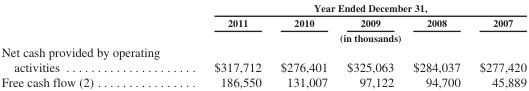table: (0, 1, 525, 88)
table column: (0, 1, 186, 88), (186, 1, 270, 88), (402, 1, 469, 88), (270, 1, 336, 88), (336, 1, 402, 88), (469, 1, 525, 88)
table column header: (0, 1, 525, 43)
table row: (0, 43, 525, 73), (0, 14, 525, 29), (0, 73, 525, 88), (0, 29, 525, 43), (0, 1, 525, 14)
table spanning cell: (186, 29, 525, 43), (186, 1, 525, 14)
